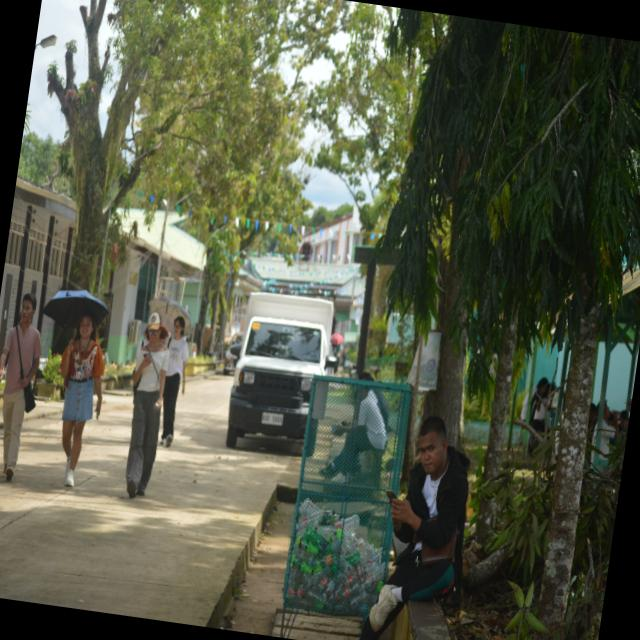person: (360, 417, 469, 639), (126, 313, 169, 498), (0, 293, 41, 480), (60, 314, 104, 487), (321, 389, 388, 480), (160, 316, 188, 447)
